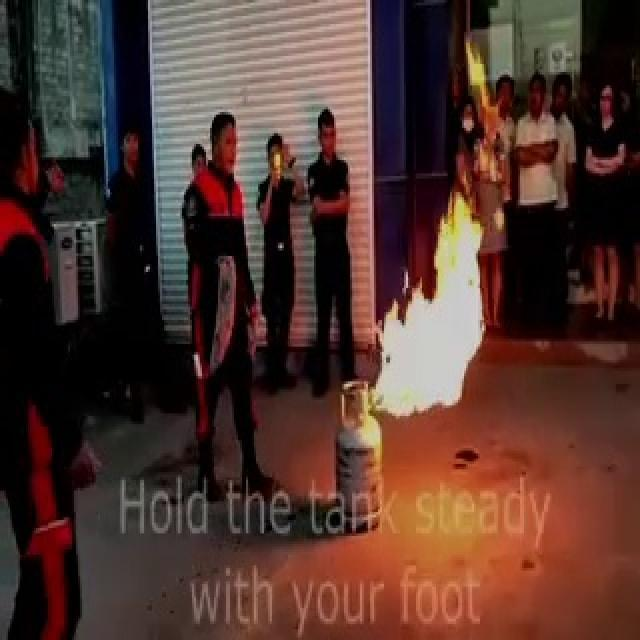Fire: (366, 187, 490, 421)
